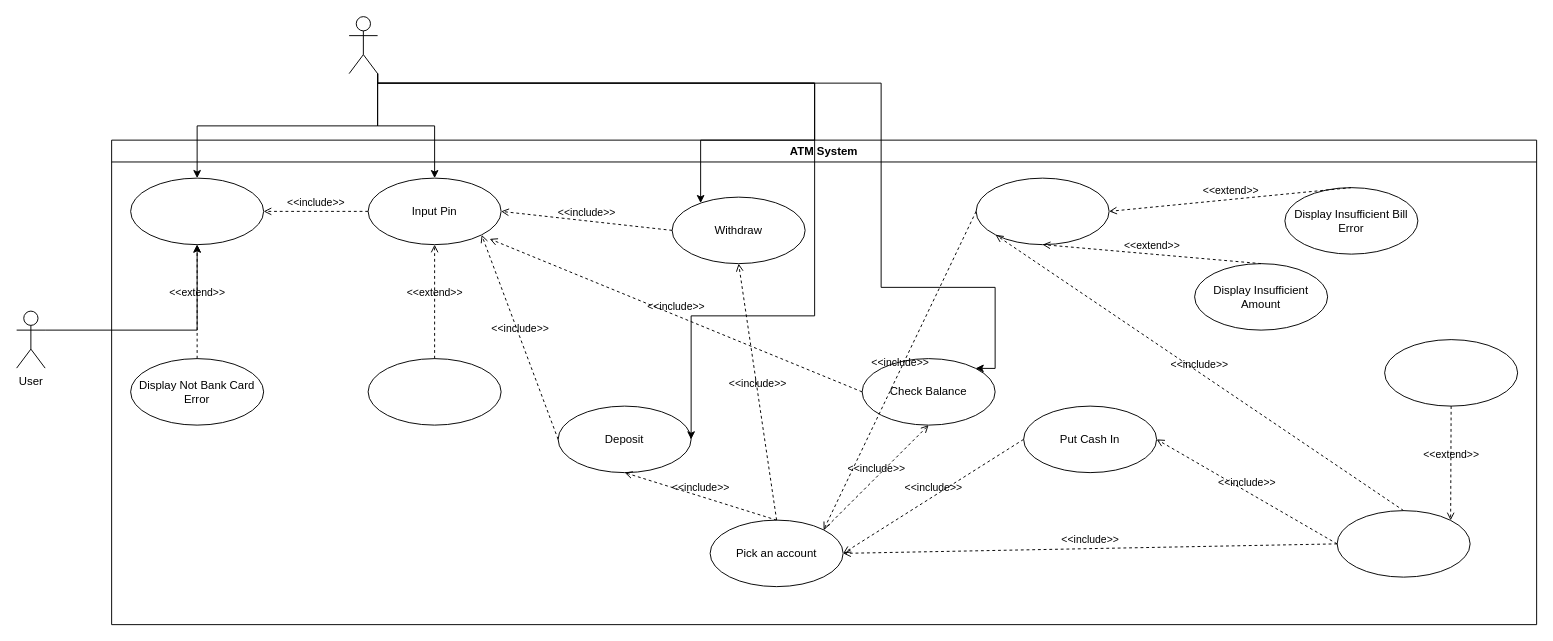
Image size: 1553x641. Some labels were removed from this diagram. Each missing label, with the centre of its shape:
Banking System: (363,45)
Display PIN Error: (434,391)
Input Withdraw Amount: (1042,211)
Insert Card: (197,211)
Operation Success: (1403,543)
Stop the session: (1451,372)
